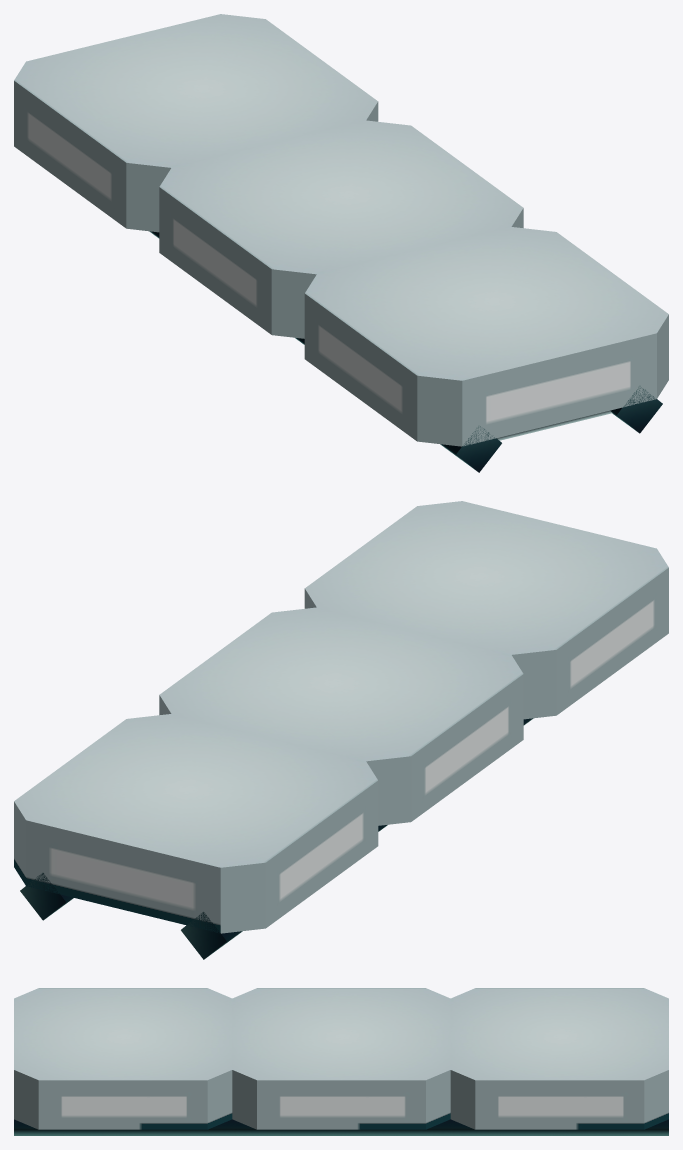
File: 00PingTai.FBX
3 views of the same model, one above another, from view 1: azimuth 30°, elevation 25°; view 2: azimuth 150°, elevation 25°; view 3: azimuth 270°, elevation 25° (orthographic). The views are drawn at different scales.
Parts seen in each view (by area): view 1: DiBan030; view 2: DiBan030; view 3: DiBan030.
Boxes of the visible parts, <box> form: DiBan030: <box>14,14,668,472</box>; DiBan030: <box>14,501,668,959</box>; DiBan030: <box>14,988,668,1135</box>.
Bounding box in the file's own units: 15.75 × 5.76 × 47.24.
